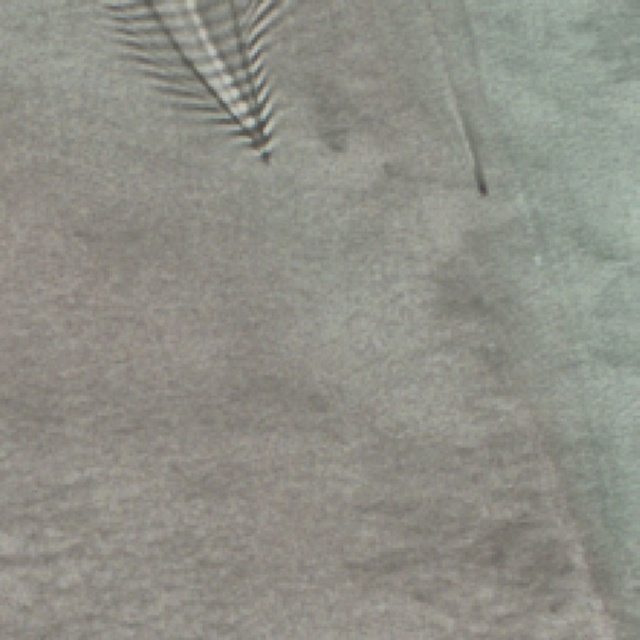wake: (166, 6, 318, 184)
